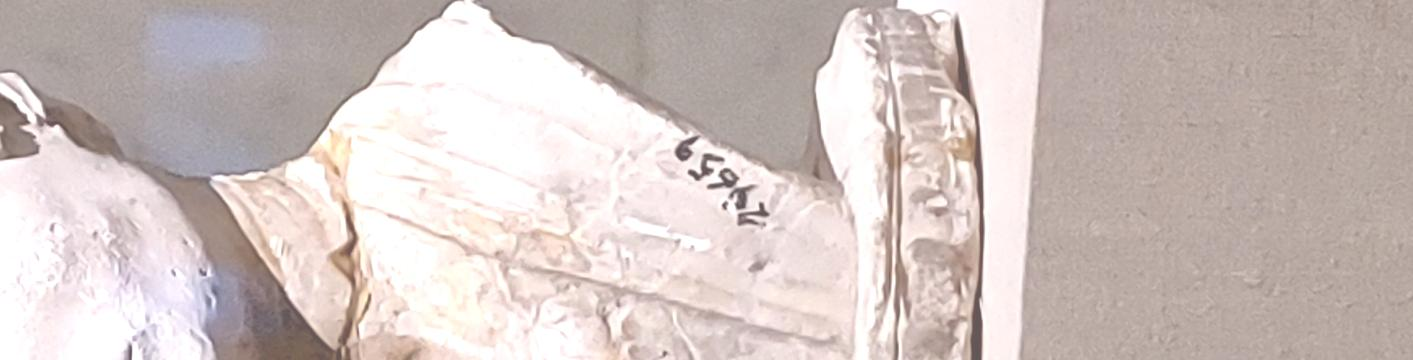Greek_Statues: (0, 4, 321, 360)
